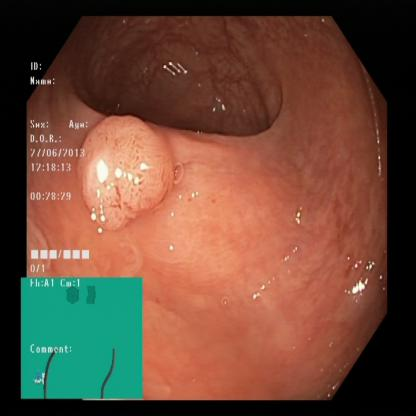Labels: (20, 277, 142, 401), (28, 56, 92, 277)
Polyps: (77, 119, 181, 221)
